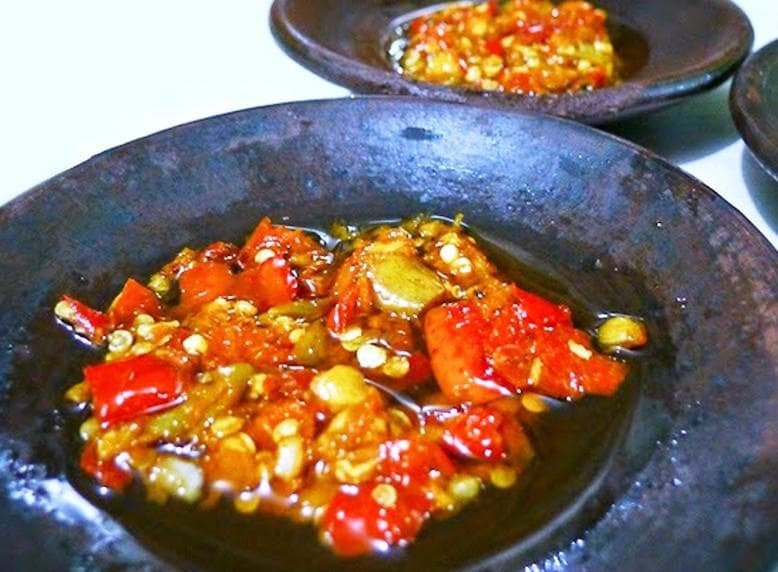sambal: (47, 215, 648, 552)
